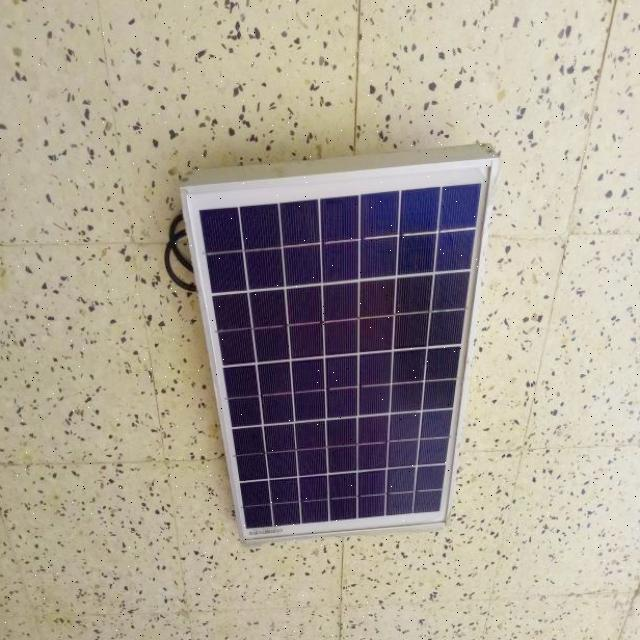Normal Solar Panel: (182, 155, 492, 538)
